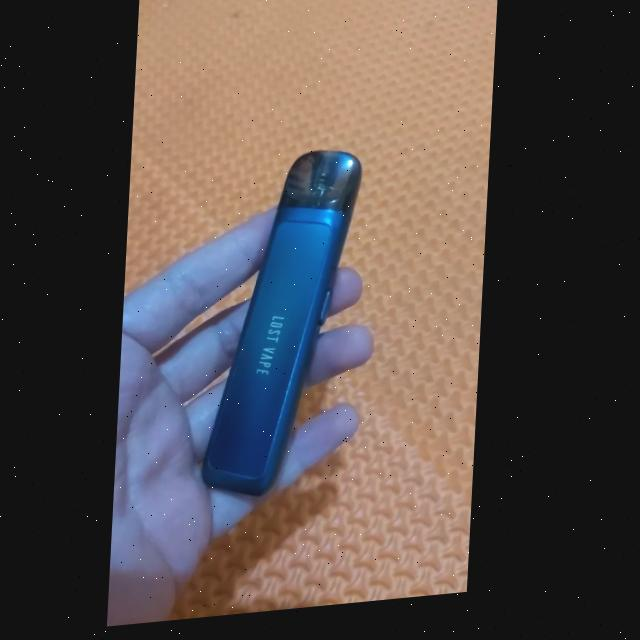vape: (203, 154, 366, 511)
